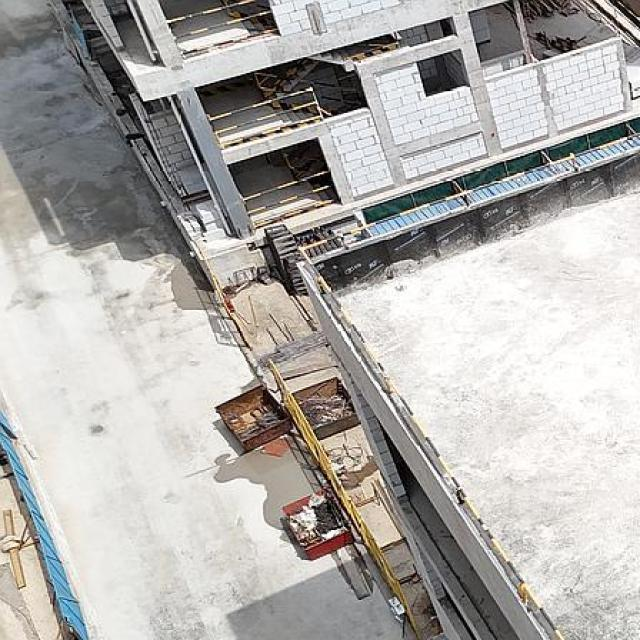edge_guardrail: (295, 133, 640, 640), (208, 86, 326, 150), (166, 0, 277, 56), (243, 169, 334, 215)
